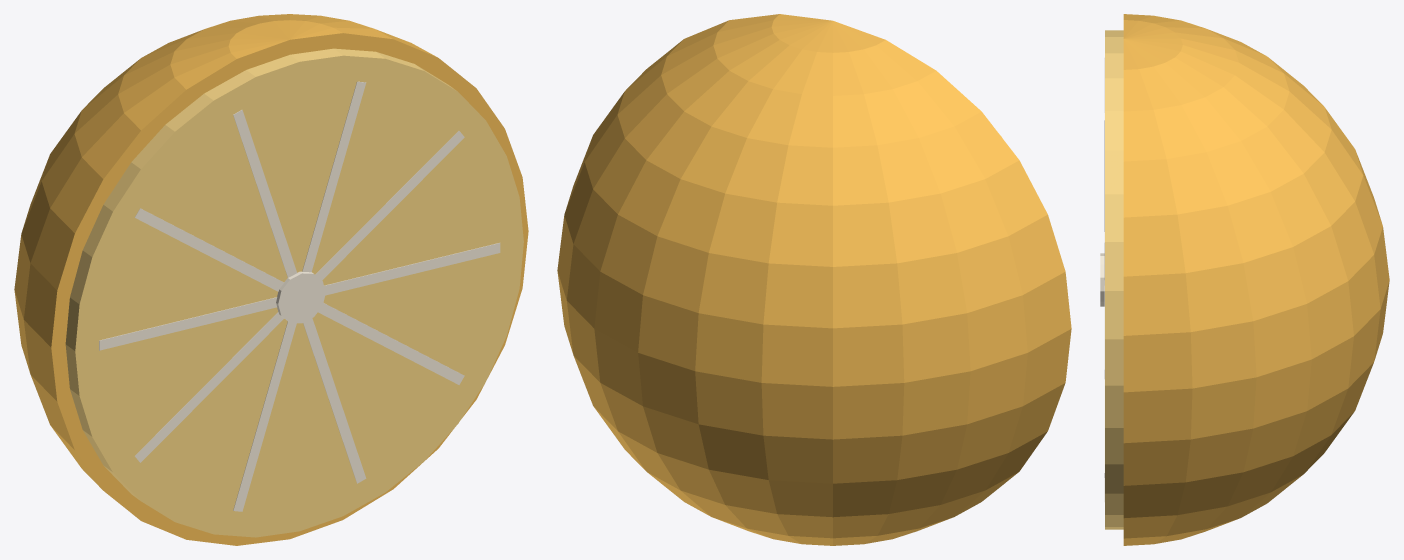
The model's file is HOB_Fruit_Orange.fbx.
The picture shows the model from 3 angles, left to right: view 1: azimuth 30°, elevation 25°; view 2: azimuth 150°, elevation 25°; view 3: azimuth 270°, elevation 25°; orthographic projection. The views are drawn at different scales.
Parts seen in each view (by area): view 1: HOB_Fruit_Orange; view 2: HOB_Fruit_Orange; view 3: HOB_Fruit_Orange.
Part boxes in pixels (left/top/right/bottom): HOB_Fruit_Orange: left=14, top=14, right=528, bottom=545; HOB_Fruit_Orange: left=557, top=14, right=1071, bottom=545; HOB_Fruit_Orange: left=1100, top=14, right=1389, bottom=545.
Size of the model in its own units: 160 by 160 by 87.04.
